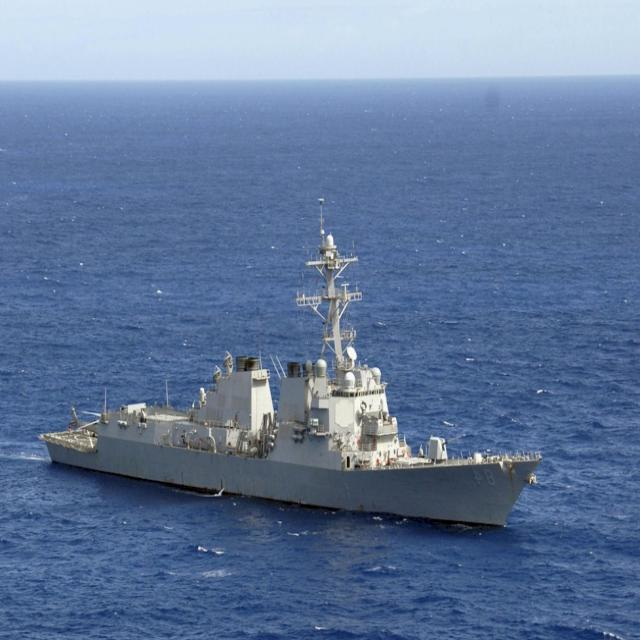navalvessels: (35, 170, 552, 534)
